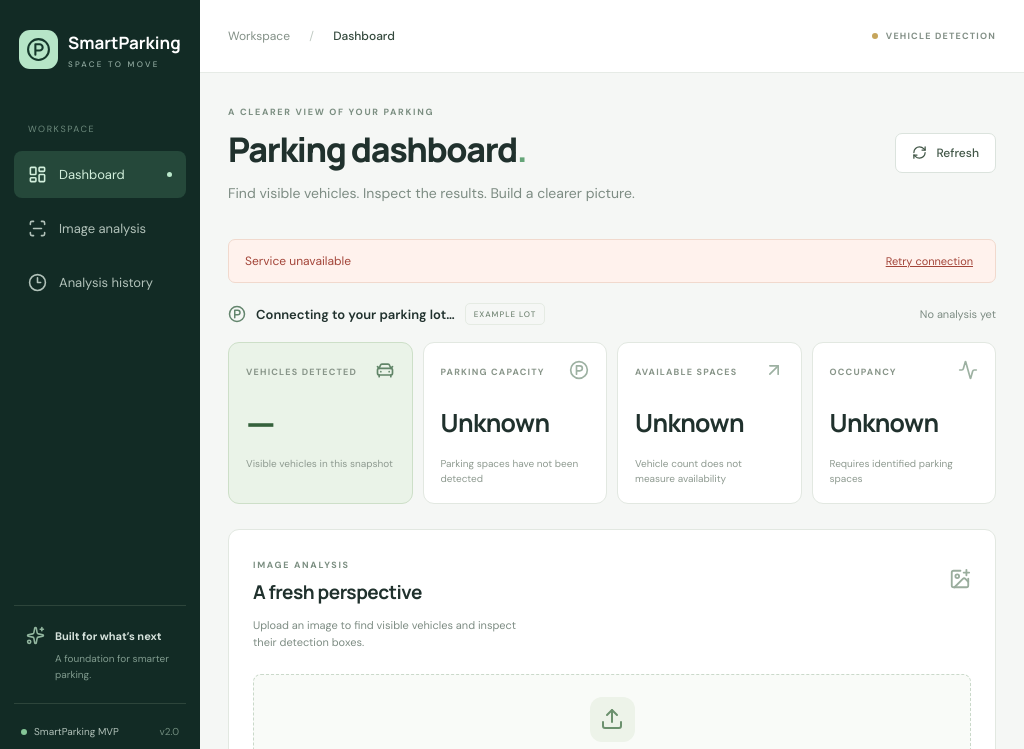
Scenario: shows API errors with retry
Expected: the message shows "Service unavailable", 245,253 -> 351,269
Click the button "Retry connection" at (929, 261), box 880,253 -> 979,269
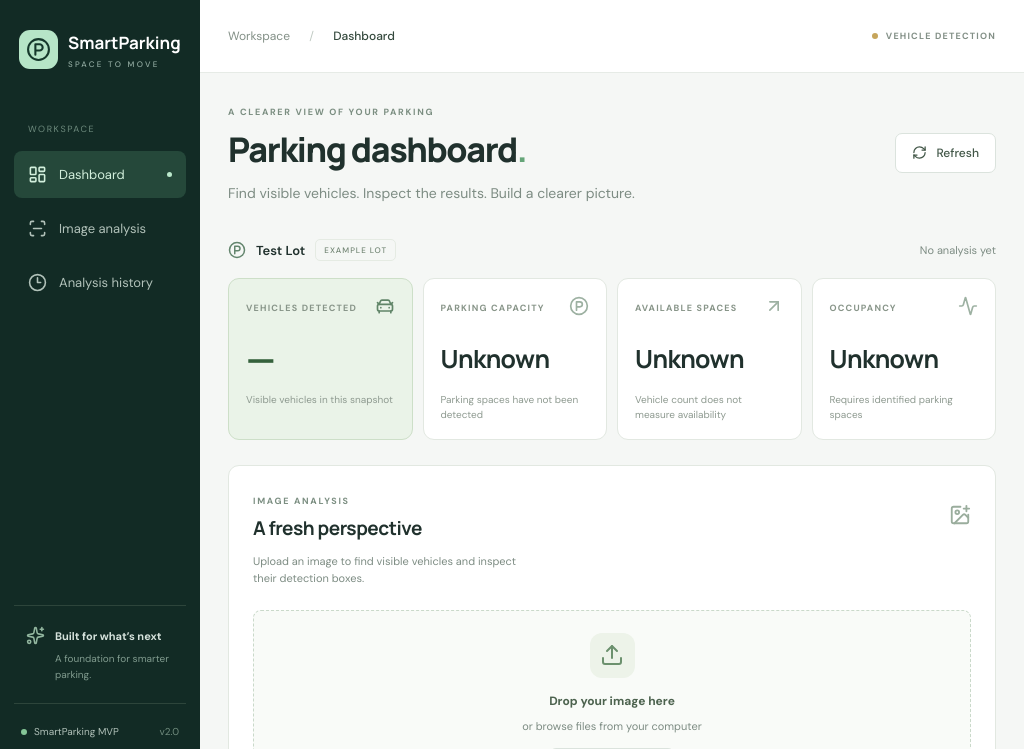
Expected: the message "Service unavailable Retry connection" is gone
Expected: the text "Test Lot" is shown, 256,242 -> 305,259
